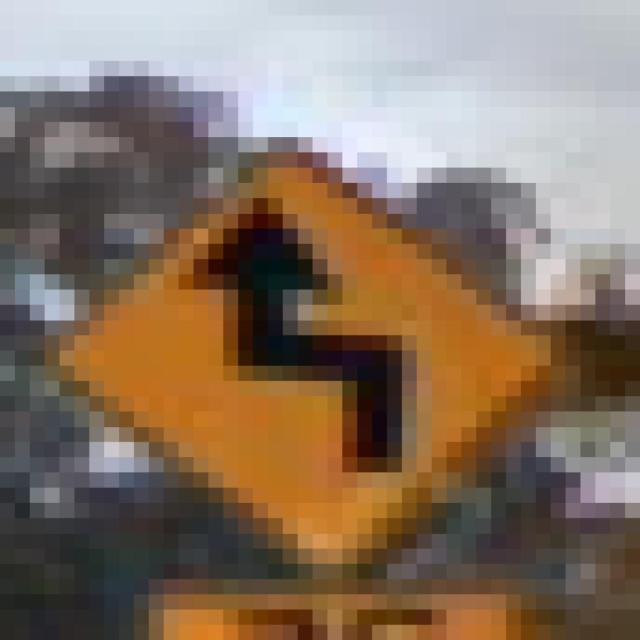Tikungan Ganda Pertama Ke Kiri: (14, 107, 550, 579)
